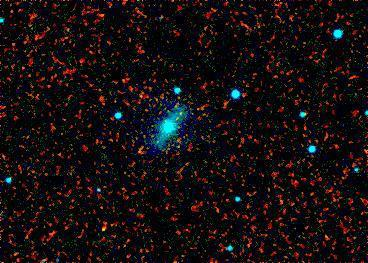star: (89, 214, 119, 244)
